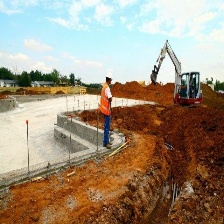person: (97, 70, 118, 155)
vest: (100, 83, 113, 115)
